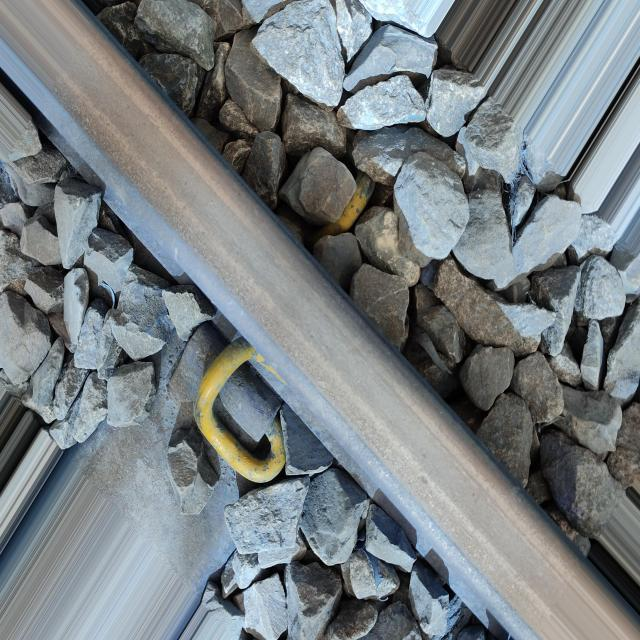Good Fasteners: (157, 317, 296, 518), (311, 173, 375, 245)
